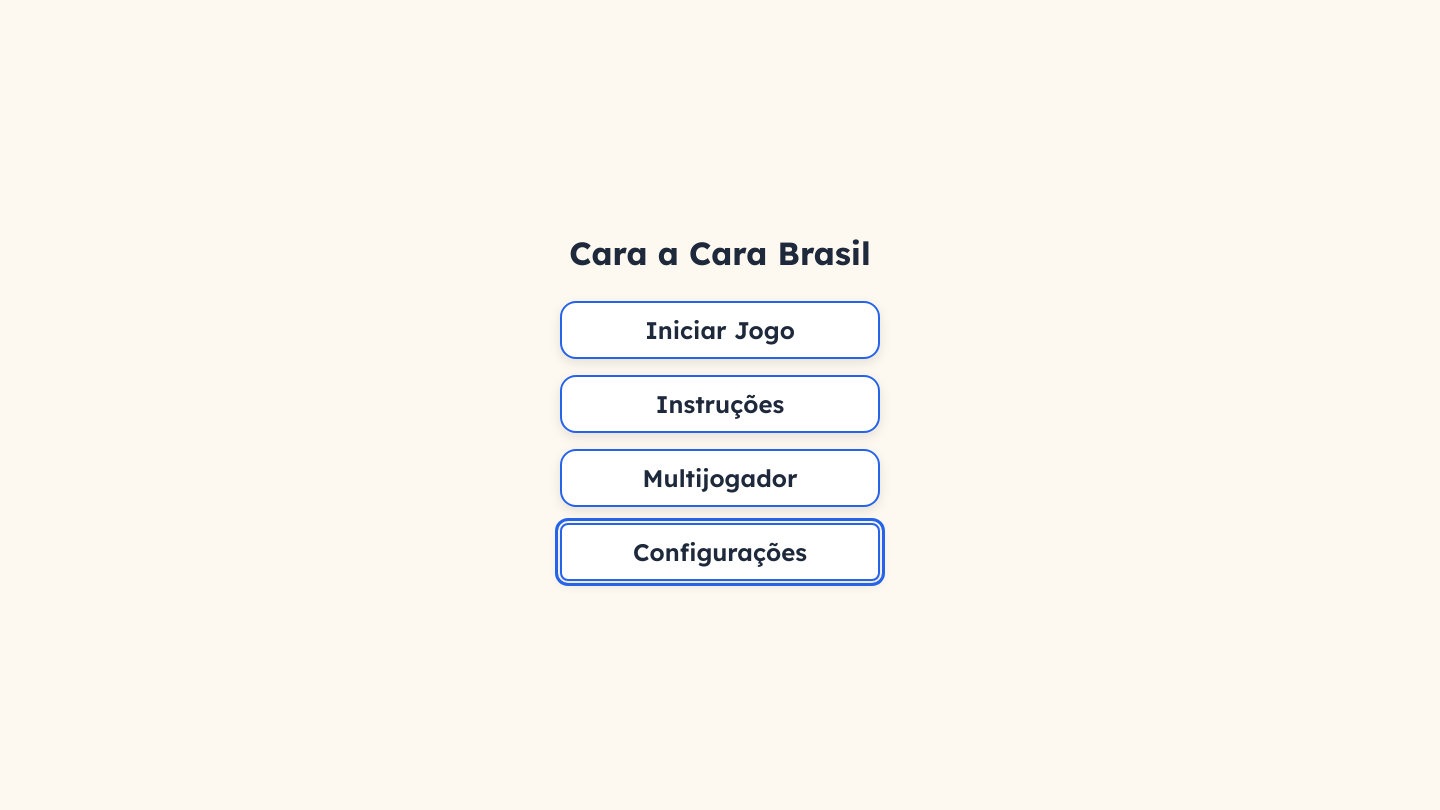
Test: MenuScreen › "Configurações" button opens AccessibilitySettings overlay
Click the button "Configurações" at (720, 552), box [560,523,880,581]
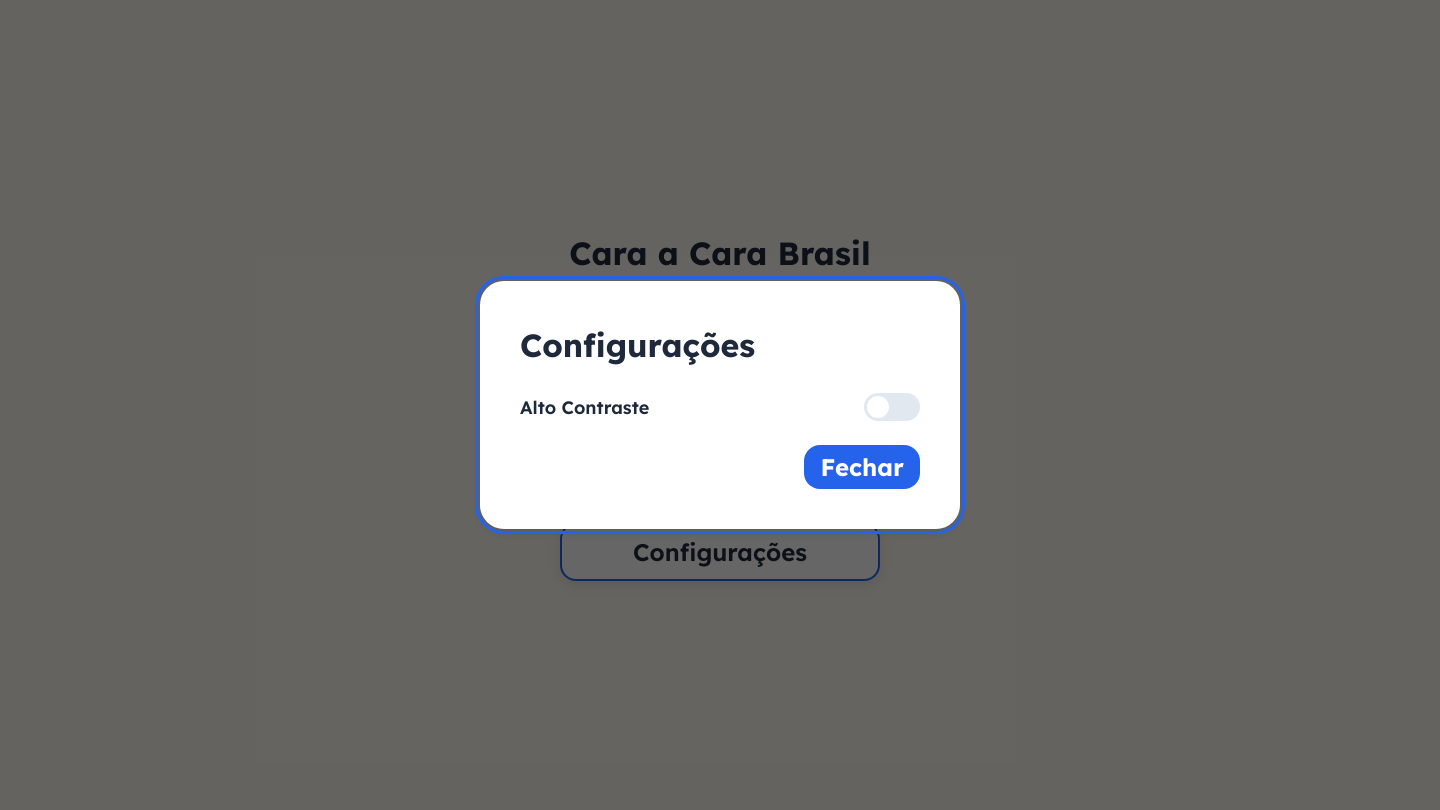
Result: the dialog named "configurações de acessibilidade" is shown
